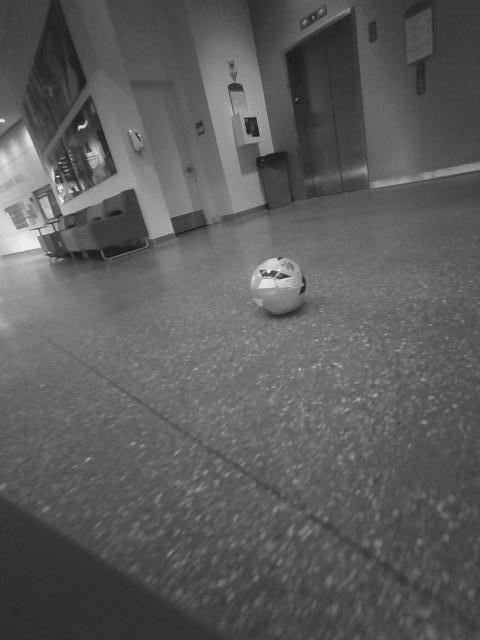ball: (241, 249, 320, 323)
